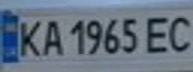1: (63, 16, 87, 55)
5: (118, 12, 145, 55)
6: (103, 15, 124, 56)
9: (81, 16, 106, 56)
A: (39, 16, 66, 56)
C: (163, 11, 193, 54)
E: (139, 11, 178, 55)
K: (12, 17, 48, 59)
